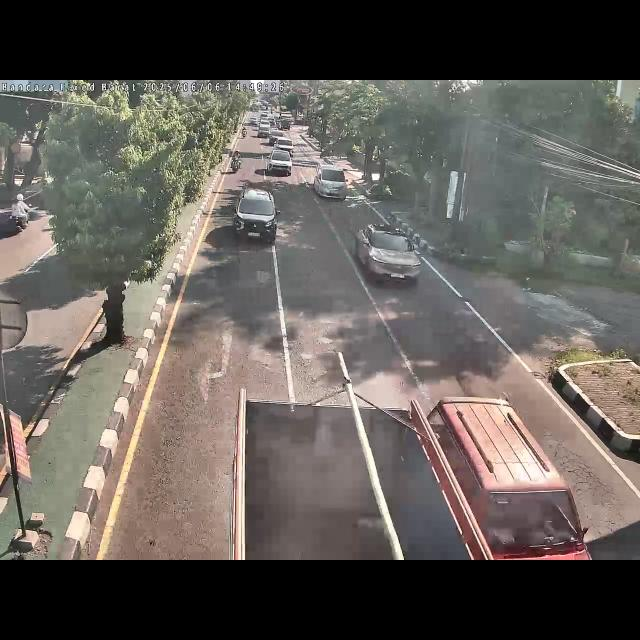Mobil: (422, 392, 600, 560), (358, 222, 424, 284), (232, 183, 278, 250), (312, 163, 350, 201), (267, 148, 293, 178)
Motor: (230, 149, 243, 173)
Truk: (220, 386, 502, 560)
